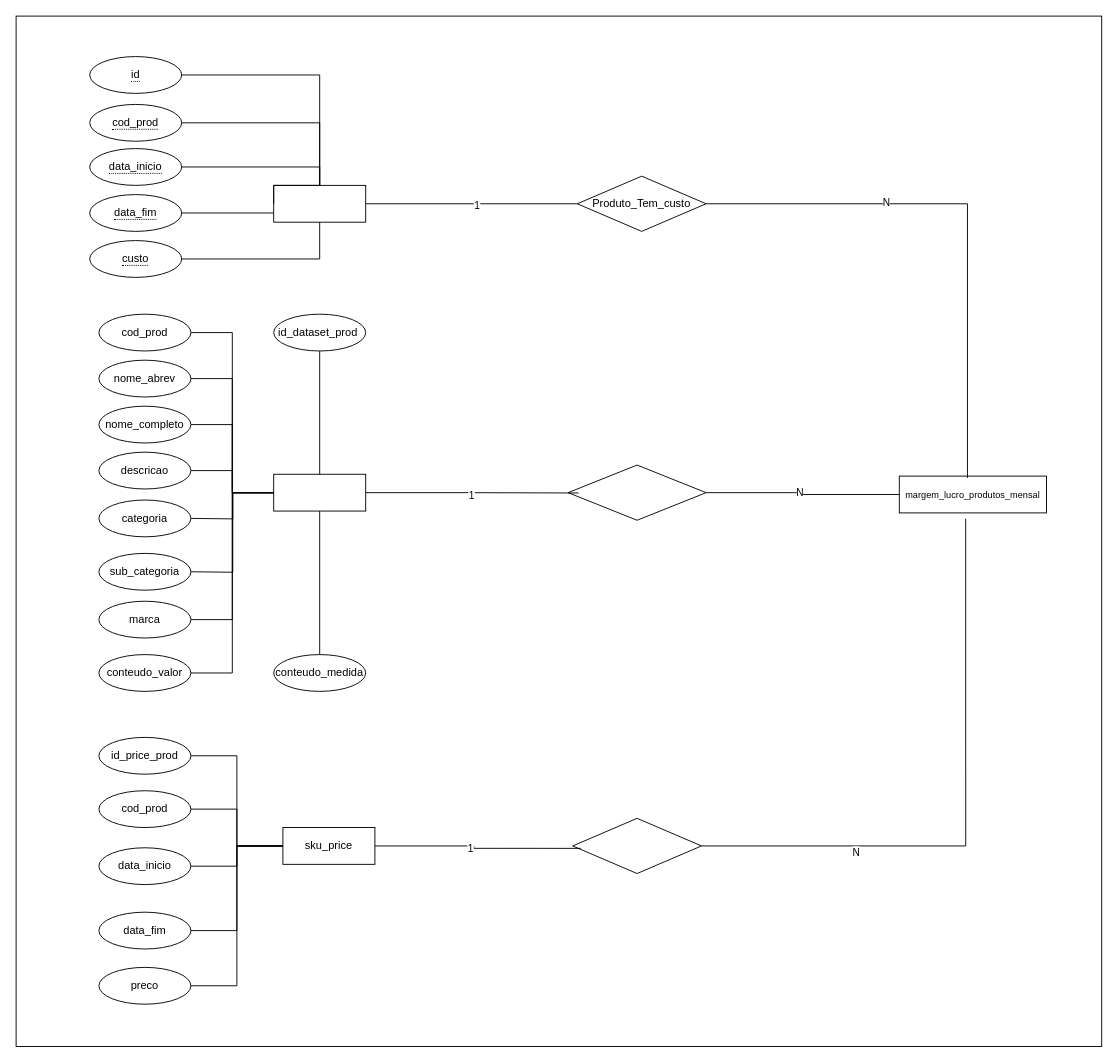
The diagram is 1118 pixels wide and 1063 high, and some of its shapes have lost their labels. Here are the shapes that lost their labels. From the top down, the centre of each, then its label:
At point 319,203: "sku_cost".
At point 319,492: "sku_dataset".
At point 636,492: "Produto_Tem_Detalhes".
At point 637,845: "Produto_Tem_Preco".
